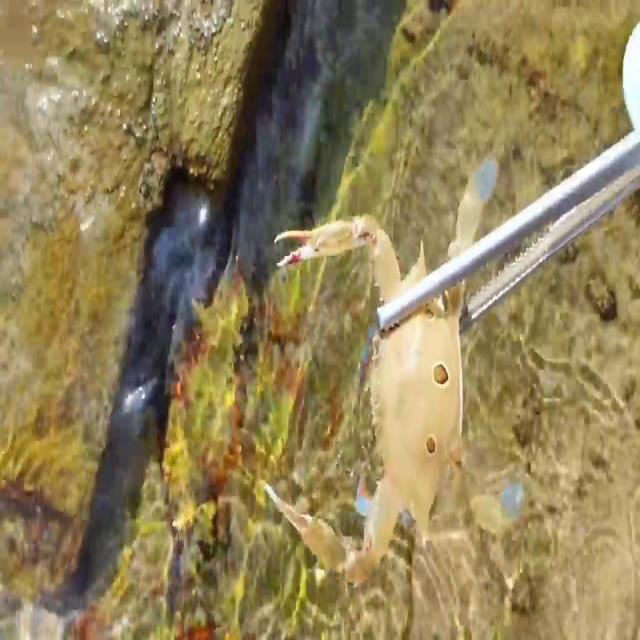octopus: (245, 154, 532, 584)
